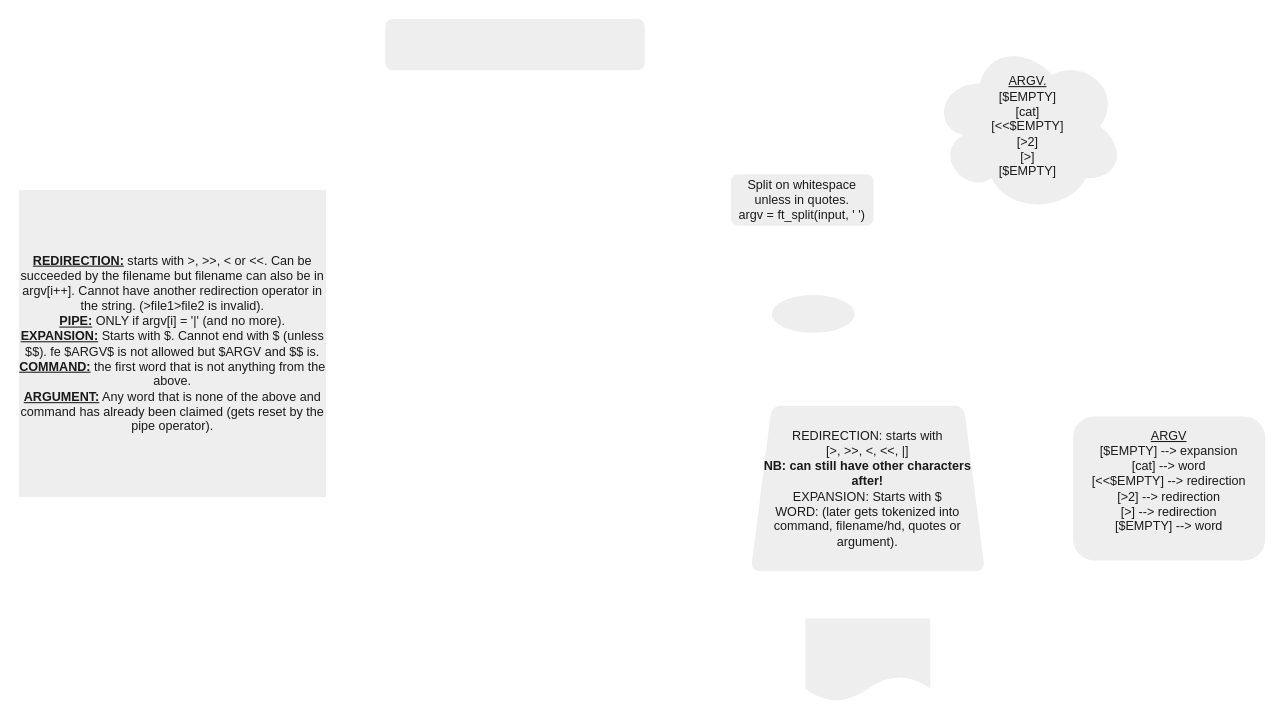
The diagram is 1284 pixels wide and 720 high, and some of its shapes have lost their labels. Here are the shapes that lost their labels. From the top down, the centre of each, then its label:
the point at 514,44: START input = readline(); `$EMPTY cat <<$EMPTY >2 > $EMPTY`
the point at 812,313: TOKENIZE
the point at 867,659: Split redirection
